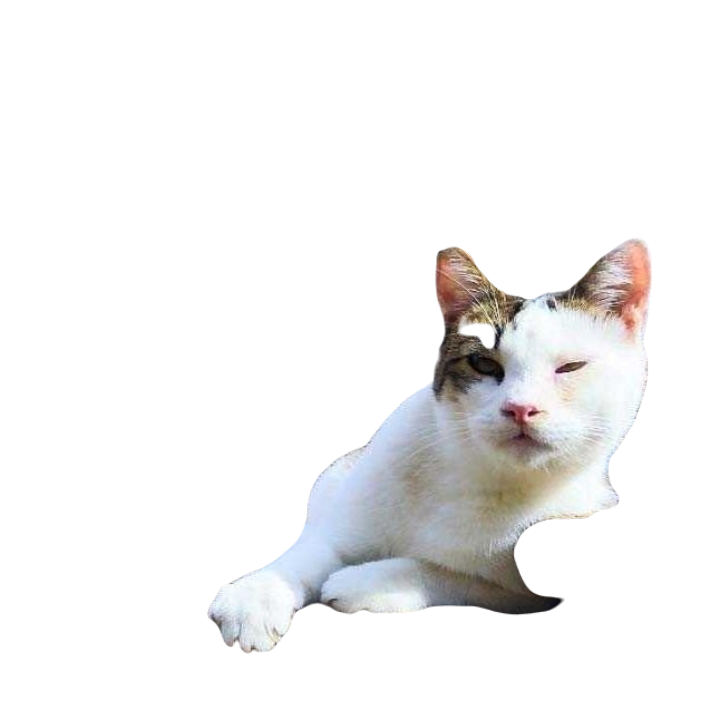Cat: (195, 240, 719, 661)
